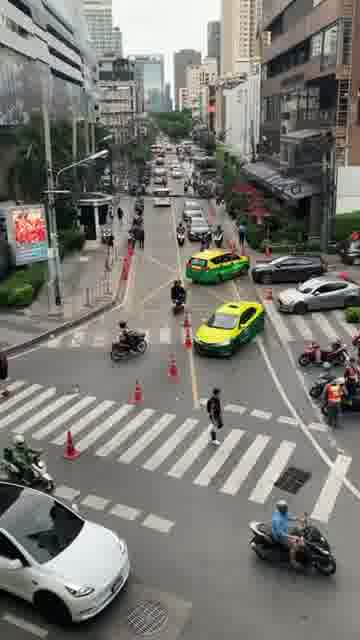bike: (247, 509, 336, 577), (1, 446, 54, 492), (308, 361, 359, 398), (297, 334, 348, 367), (320, 378, 359, 416), (109, 327, 147, 362), (170, 286, 185, 315), (212, 229, 224, 248), (199, 237, 209, 252), (176, 229, 184, 247), (183, 180, 188, 192)
car: (0, 479, 131, 624), (192, 299, 264, 358), (276, 274, 360, 314), (184, 248, 250, 284), (251, 253, 327, 284), (335, 239, 359, 265), (187, 215, 211, 240), (182, 197, 202, 221), (151, 187, 171, 208)
pedestrian: (323, 375, 345, 429), (206, 386, 224, 446), (137, 218, 145, 249), (237, 221, 246, 248), (106, 232, 114, 256), (218, 198, 225, 219), (116, 206, 123, 225), (107, 205, 114, 224), (100, 228, 106, 249)
